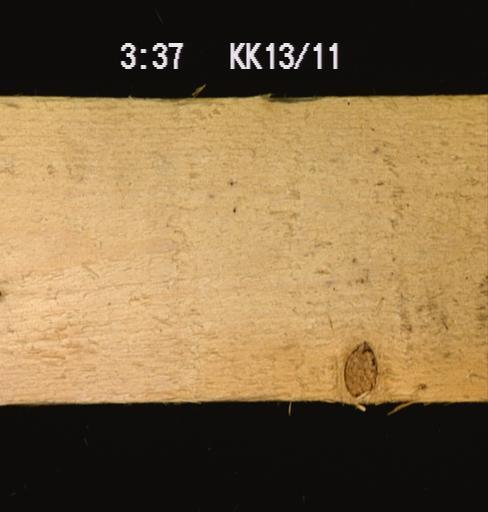dry_knot: (341, 340, 377, 397)
